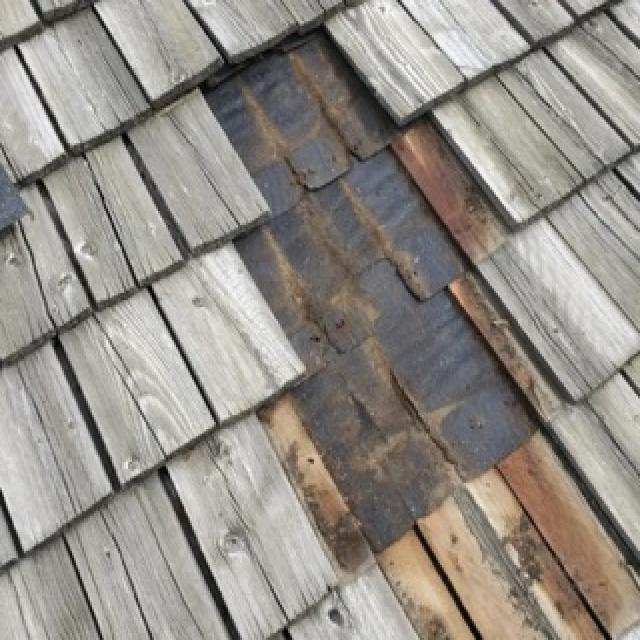trou: (183, 17, 640, 640)
